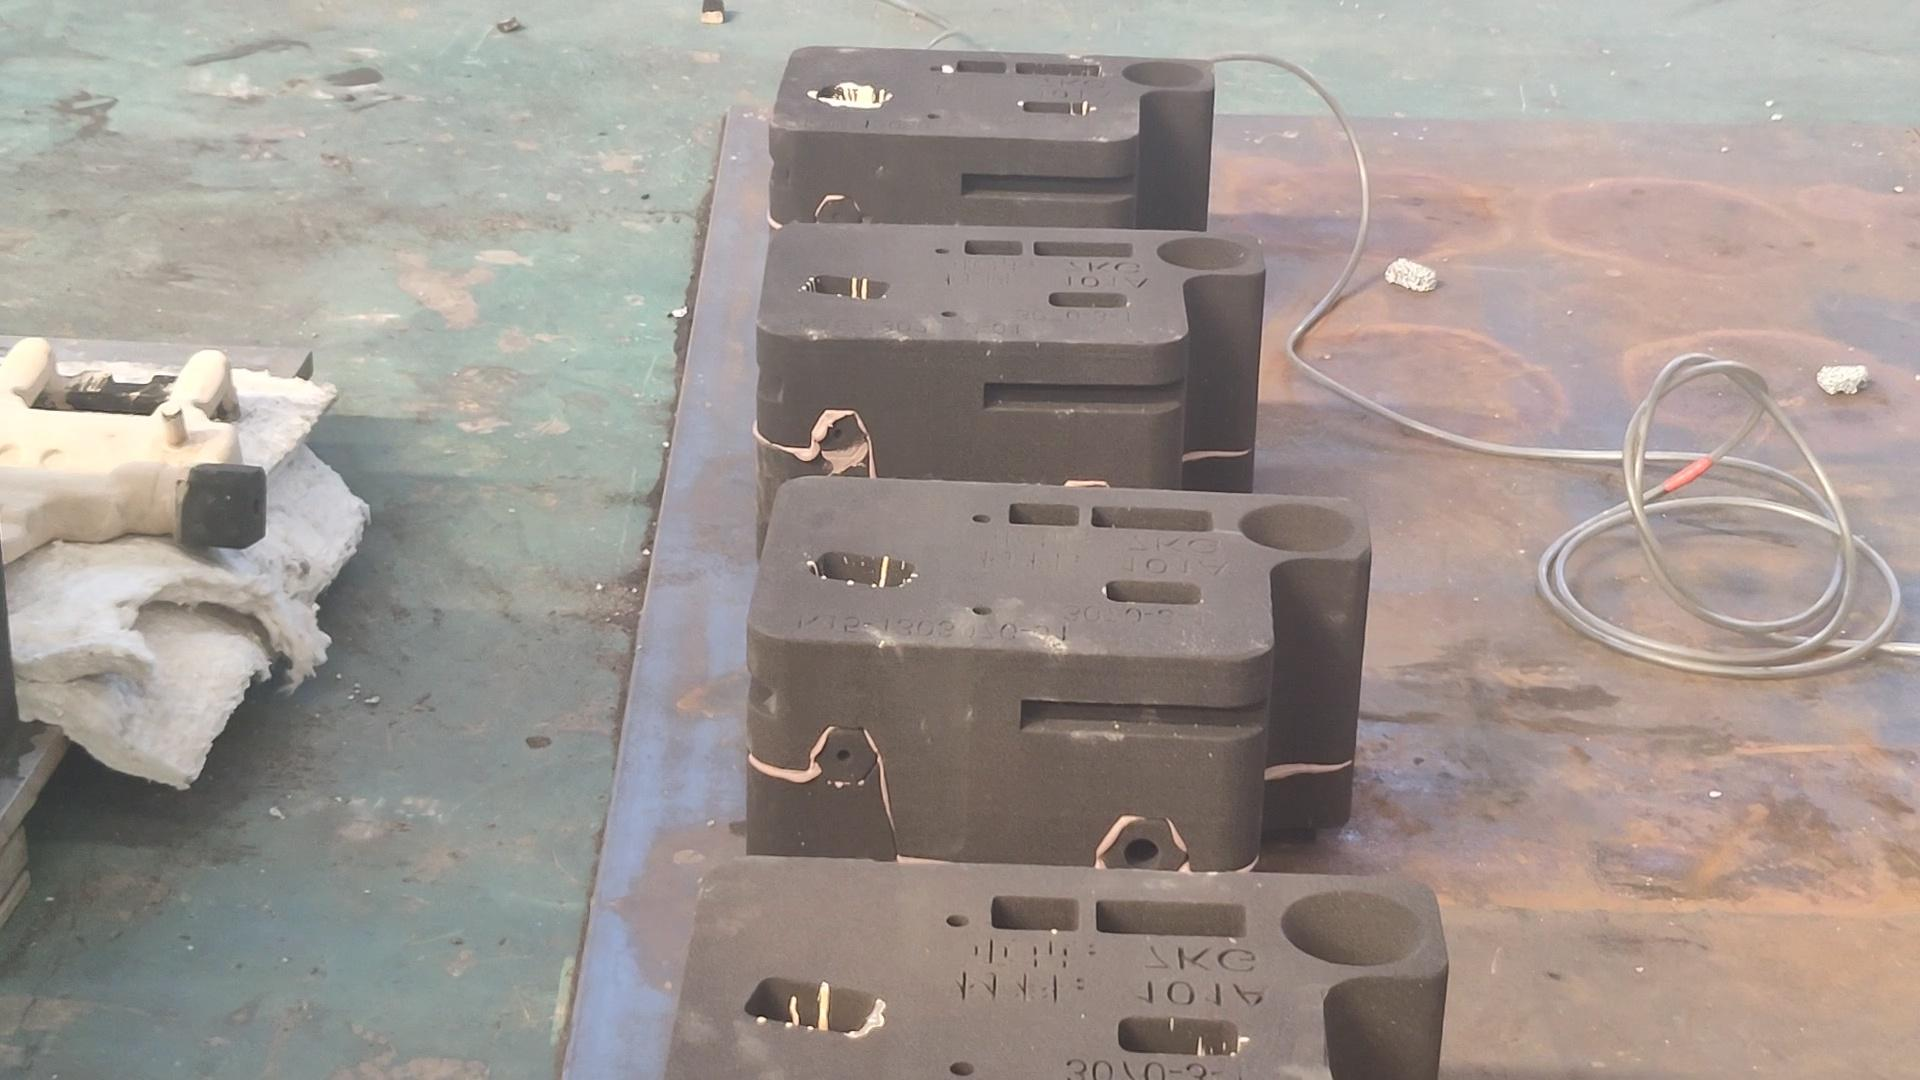pouring hole: (1280, 889, 1425, 965), (1240, 501, 1356, 553), (1156, 235, 1251, 270), (1122, 61, 1203, 88)
